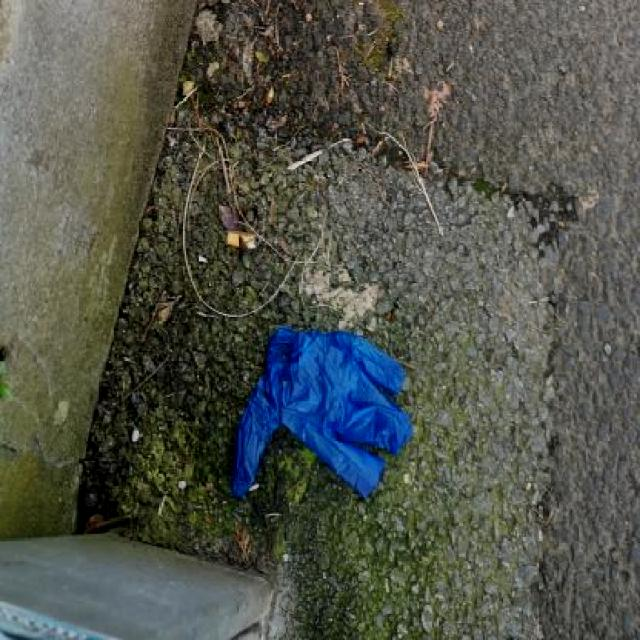glove: (223, 312, 415, 512)
